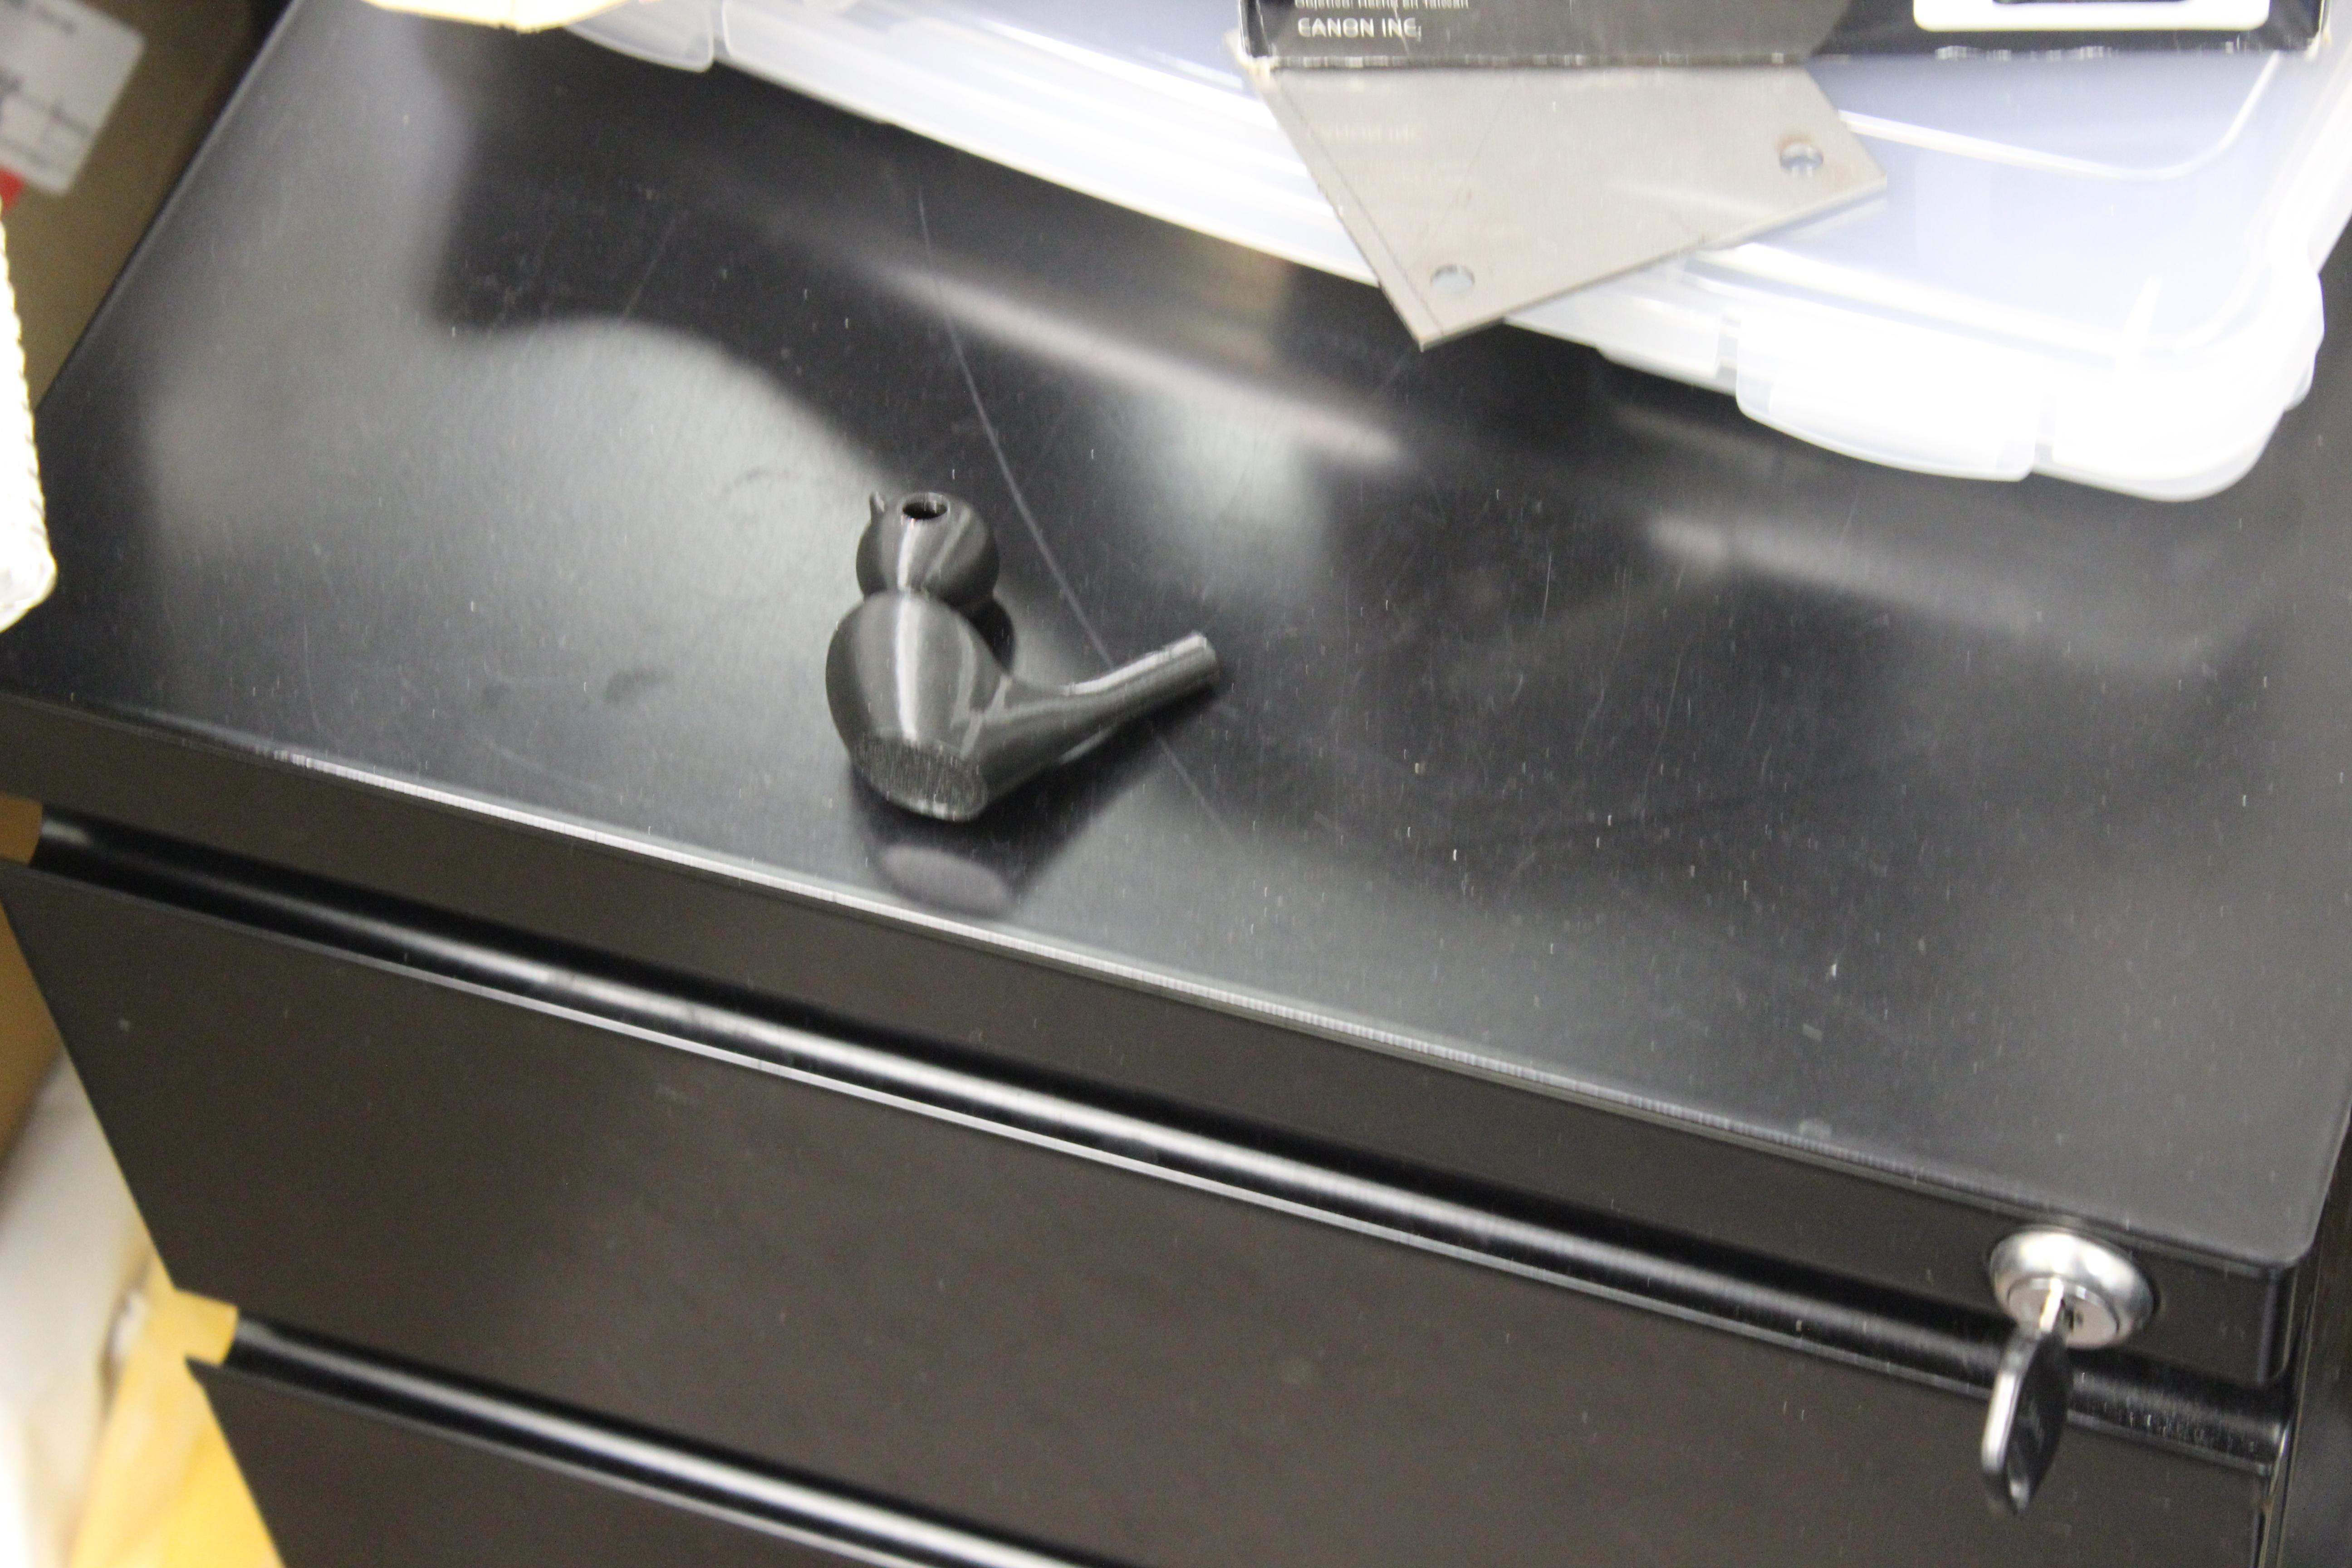birdCall: (761, 439, 1286, 910)
